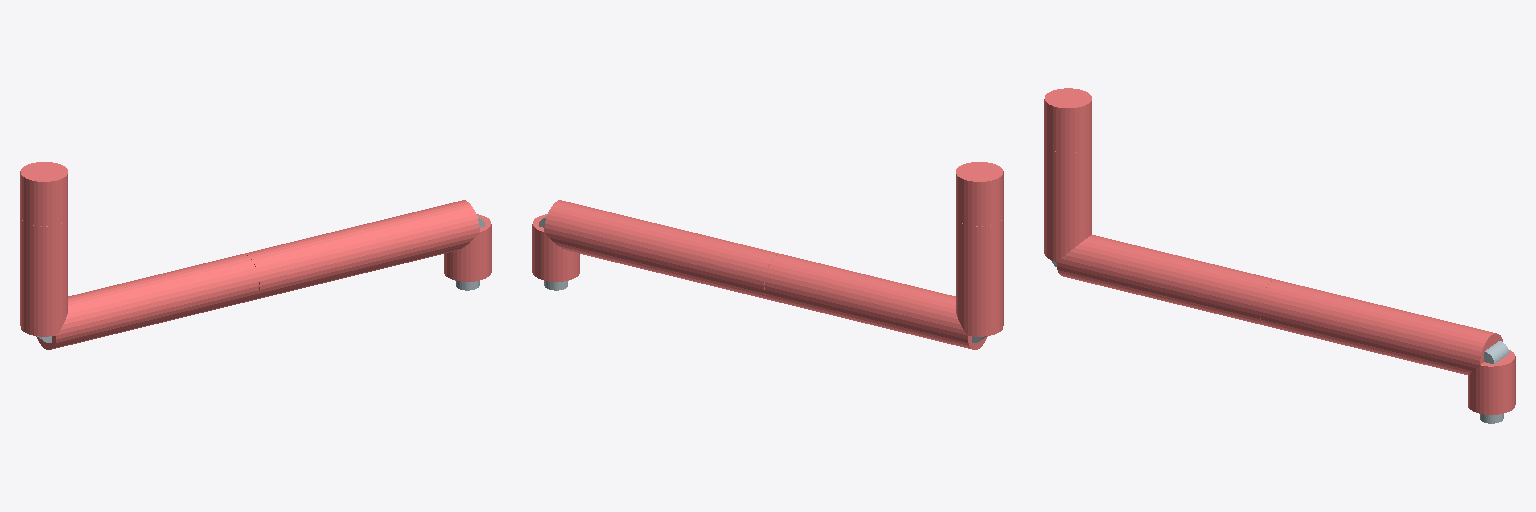
The robot description file, URDF, robot "ExampleRobot":
<robot name='ExampleRobot'>
	<material name='blue'>
		<color rgba='0 0 0.8 1'/>
	</material>
	<material name='red'>
		<color rgba='0.8 0 0 1'/>
	</material>
	<link name='a0'>
		<visual>
			<origin rpy='-0.0 0.0 0.0' xyz='0.0 0.0 0.0'/>
			<geometry>
				<cylinder length='0.05' radius='0.02'/>
			</geometry>
			<material name='blue'><color rgba='0.73 0.79 0.82 1'/></material>
		</visual>
	</link>
	<link name='l0'>
		<visual>
			<origin rpy='-0.0 0.0 0.0' xyz='0.0 0.0 0.045'/>
			<geometry>
				<cylinder length='0.089459' radius='0.04'/>
			</geometry>
			<material name='grey'><color rgba='0.99 0.54 0.54 1'/></material>
		</visual>
	</link>
	<joint name='move_l0_from_a0' type='continuous'>
		<parent link='a0'/>
		<child link='l0'/>
		<axis xyz='0.0 0.0 1.0'/>
		<origin rpy='0 0 0' xyz='0.0 0.0 0.0'/>
	</joint>
	<link name='a1'>
		<visual>
			<origin rpy='1.571 0.0 0.0' xyz='0.0 0.0 0.089'/>
			<geometry>
				<cylinder length='0.05' radius='0.02'/>
			</geometry>
			<material name='blue'><color rgba='0.73 0.79 0.82 1'/></material>
		</visual>
	</link>
	<joint name='fix_a1_to_l0' type='fixed'>
		<parent link='l0'/>
		<child link='a1'/>
		<origin rpy='0 0 0' xyz='0 0 0'/>
	</joint>
	<link name='l1'>
		<visual>
			<origin rpy='-0.0 -1.571 0.0' xyz='-0.212 -0.0 0.0'/>
			<geometry>
				<cylinder length='0.425' radius='0.04'/>
			</geometry>
			<material name='grey'><color rgba='0.99 0.54 0.54 1'/></material>
		</visual>
	</link>
	<joint name='move_l1_from_a1' type='continuous'>
		<parent link='a1'/>
		<child link='l1'/>
		<axis xyz='0.0 -1.0 0.0'/>
		<origin rpy='0 0 0' xyz='0.0 0.0 0.089459'/>
	</joint>
	<link name='a2'>
		<visual>
			<origin rpy='1.571 0.0 0.0' xyz='-0.425 -0.0 0.0'/>
			<geometry>
				<cylinder length='0.05' radius='0.02'/>
			</geometry>
			<material name='blue'><color rgba='0.73 0.79 0.82 1'/></material>
		</visual>
	</link>
	<joint name='fix_a2_to_l1' type='fixed'>
		<parent link='l1'/>
		<child link='a2'/>
		<origin rpy='0 0 0' xyz='0 0 0'/>
	</joint>
	<link name='l2'>
		<visual>
			<origin rpy='-0.0 -1.571 0.0' xyz='-0.196 -0.0 0.0'/>
			<geometry>
				<cylinder length='0.39225' radius='0.04'/>
			</geometry>
			<material name='grey'><color rgba='0.99 0.54 0.54 1'/></material>
		</visual>
	</link>
	<joint name='move_l2_from_a2' type='continuous'>
		<parent link='a2'/>
		<child link='l2'/>
		<axis xyz='0.0 -1.0 0.0'/>
		<origin rpy='0 0 0' xyz='-0.425 -0.0 0.0'/>
	</joint>
	<link name='a3'>
		<visual>
			<origin rpy='1.571 0.0 0.0' xyz='-0.392 -0.0 0.0'/>
			<geometry>
				<cylinder length='0.05' radius='0.02'/>
			</geometry>
			<material name='blue'><color rgba='0.73 0.79 0.82 1'/></material>
		</visual>
	</link>
	<joint name='fix_a3_to_l2' type='fixed'>
		<parent link='l2'/>
		<child link='a3'/>
		<origin rpy='0 0 0' xyz='0 0 0'/>
	</joint>
	<link name='l3'>
		<visual>
			<origin rpy='-0.0 0.0 0.0' xyz='0.0 0.0 0.055'/>
			<geometry>
				<cylinder length='0.10915' radius='0.04'/>
			</geometry>
			<material name='grey'><color rgba='0.99 0.54 0.54 1'/></material>
		</visual>
	</link>
	<joint name='move_l3_from_a3' type='continuous'>
		<parent link='a3'/>
		<child link='l3'/>
		<axis xyz='0.0 -1.0 0.0'/>
		<origin rpy='0 0 0' xyz='-0.39225 -0.0 0.0'/>
	</joint>
	<link name='a4'>
		<visual>
			<origin rpy='3.142 0.0 0.0' xyz='0.0 0.0 0.109'/>
			<geometry>
				<cylinder length='0.05' radius='0.02'/>
			</geometry>
			<material name='blue'><color rgba='0.73 0.79 0.82 1'/></material>
		</visual>
	</link>
	<joint name='fix_a4_to_l3' type='fixed'>
		<parent link='l3'/>
		<child link='a4'/>
		<origin rpy='0 0 0' xyz='0 0 0'/>
	</joint>
	<link name='l4'>
		<visual>
			<origin rpy='-0.0 0.0 0.0' xyz='0.0 0.0 0.047'/>
			<geometry>
				<cylinder length='0.09465' radius='0.04'/>
			</geometry>
			<material name='grey'><color rgba='0.99 0.54 0.54 1'/></material>
		</visual>
	</link>
	<joint name='move_l4_from_a4' type='continuous'>
		<parent link='a4'/>
		<child link='l4'/>
		<axis xyz='0.0 -1.2246467991473532e-16 -1.0'/>
		<origin rpy='0 0 0' xyz='0.0 0.0 0.10915'/>
	</joint>
	<link name='a5'>
		<visual>
			<origin rpy='1.571 0.0 0.0' xyz='0.0 0.0 0.095'/>
			<geometry>
				<cylinder length='0.05' radius='0.02'/>
			</geometry>
			<material name='blue'><color rgba='0.73 0.79 0.82 1'/></material>
		</visual>
	</link>
	<joint name='fix_a5_to_l4' type='fixed'>
		<parent link='l4'/>
		<child link='a5'/>
		<origin rpy='0 0 0' xyz='0 0 0'/>
	</joint>
	<link name='l5'>
		<visual>
			<origin rpy='-0.0 0.0 0.0' xyz='0.0 0.0 0.041'/>
			<geometry>
				<cylinder length='0.0823' radius='0.04'/>
			</geometry>
			<material name='grey'><color rgba='0.99 0.54 0.54 1'/></material>
		</visual>
	</link>
	<joint name='move_l5_from_a5' type='continuous'>
		<parent link='a5'/>
		<child link='l5'/>
		<axis xyz='0.0 -1.0 0.0'/>
		<origin rpy='0 0 0' xyz='0.0 0.0 0.09465'/>
	</joint>
</robot>

--- Render facts (derived) ---
3 views of the same robot in one strip: view 1: azimuth 30°, elevation 25°; view 2: azimuth 150°, elevation 25°; view 3: azimuth 330°, elevation 25° (orthographic).
Model ExampleRobot with 12 links and 11 joints (6 continuous, 5 fixed), rooted at a0, posed all joints at 0.
Visible links, largest first — view 1: l1, l2, l5, l3, l4, l0; view 2: l1, l2, l5, l3, l4, l0; view 3: l1, l2, l5, l4, l0, l3.
Link boxes in pixels (x1,y1,x2,y2): l1: (245,200,479,299); l2: (36,254,259,349); l5: (20,162,67,226); l3: (20,267,67,336); l4: (20,216,67,277); l0: (444,214,491,281); l1: (544,200,778,299); l2: (764,254,987,349); l5: (956,162,1003,226); l3: (956,267,1003,336); l4: (956,216,1003,277); l0: (532,214,579,281); l1: (1260,280,1502,374); l2: (1056,235,1275,325); l5: (1044,88,1091,152); l4: (1044,144,1091,203); l0: (1468,350,1515,414); l3: (1044,195,1091,261).
Size in the robot's own frame: 0.8972 by 0.08 by 0.4004 metres.
Geometry: primitives only (box / cylinder / sphere), no mesh files.